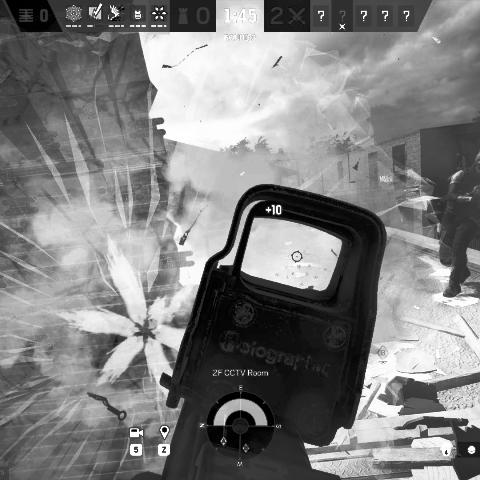Character: (438, 148, 480, 299)
Head: (475, 149, 480, 176)
